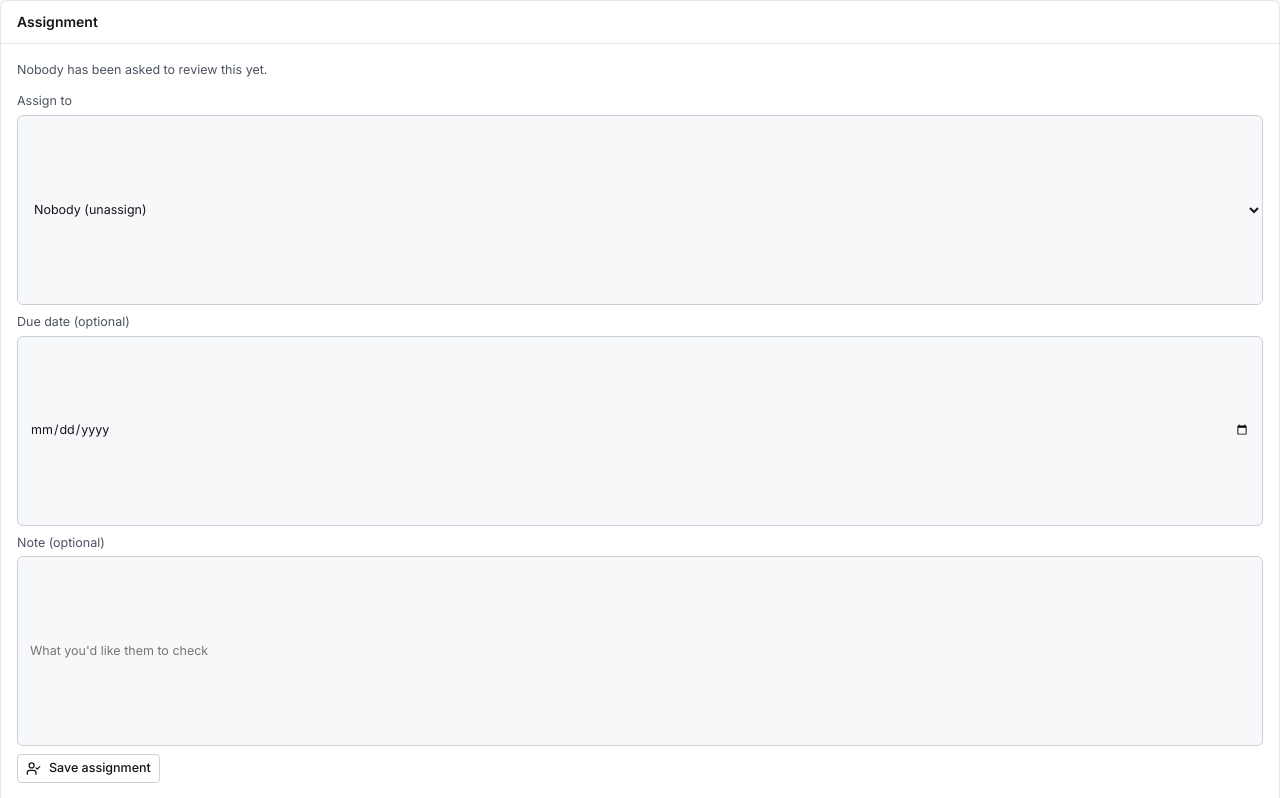
Test: AssignmentPanel › assigns a colleague
The image size is (1280, 798).
Select "colleague@example.com" in the dropdown labelled "Assign to" at [640, 210], box [17,115,1263,305]
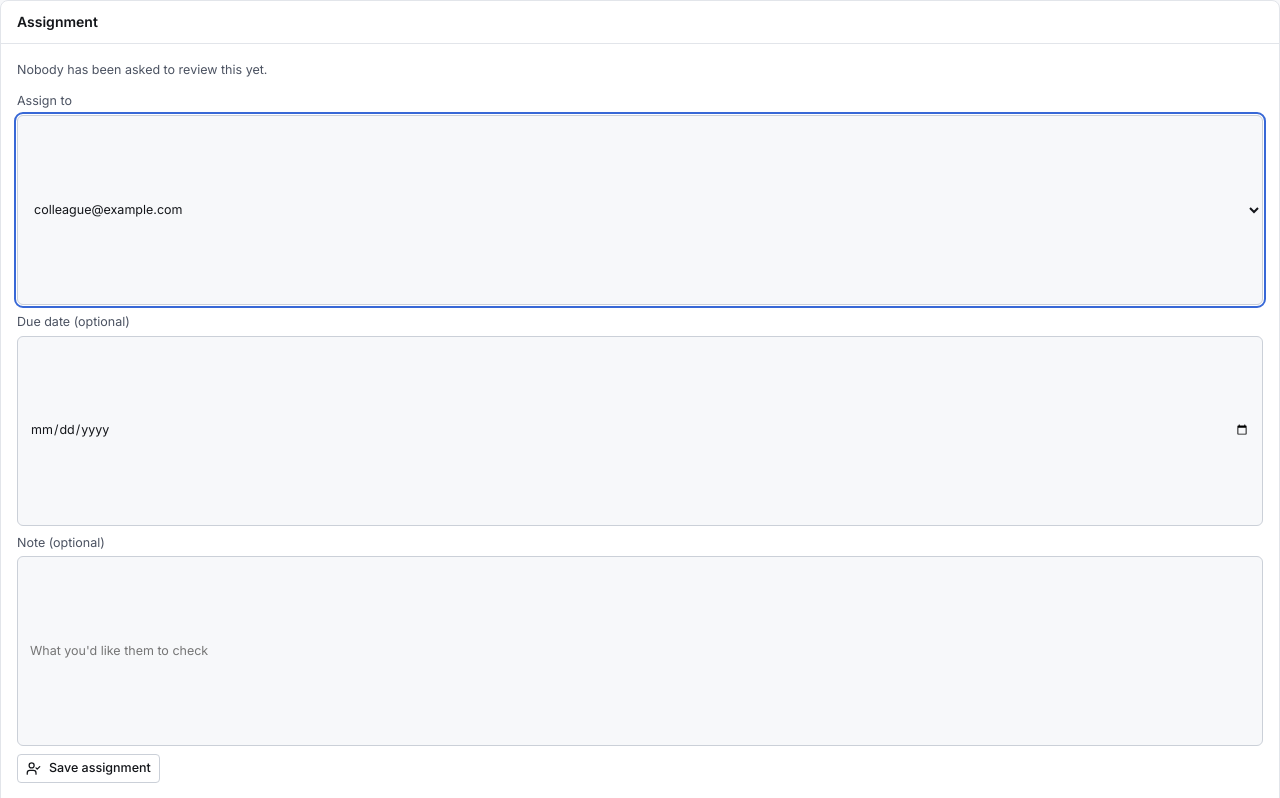
Click the button "Save assignment" at [88, 769], box [17,754,160,783]
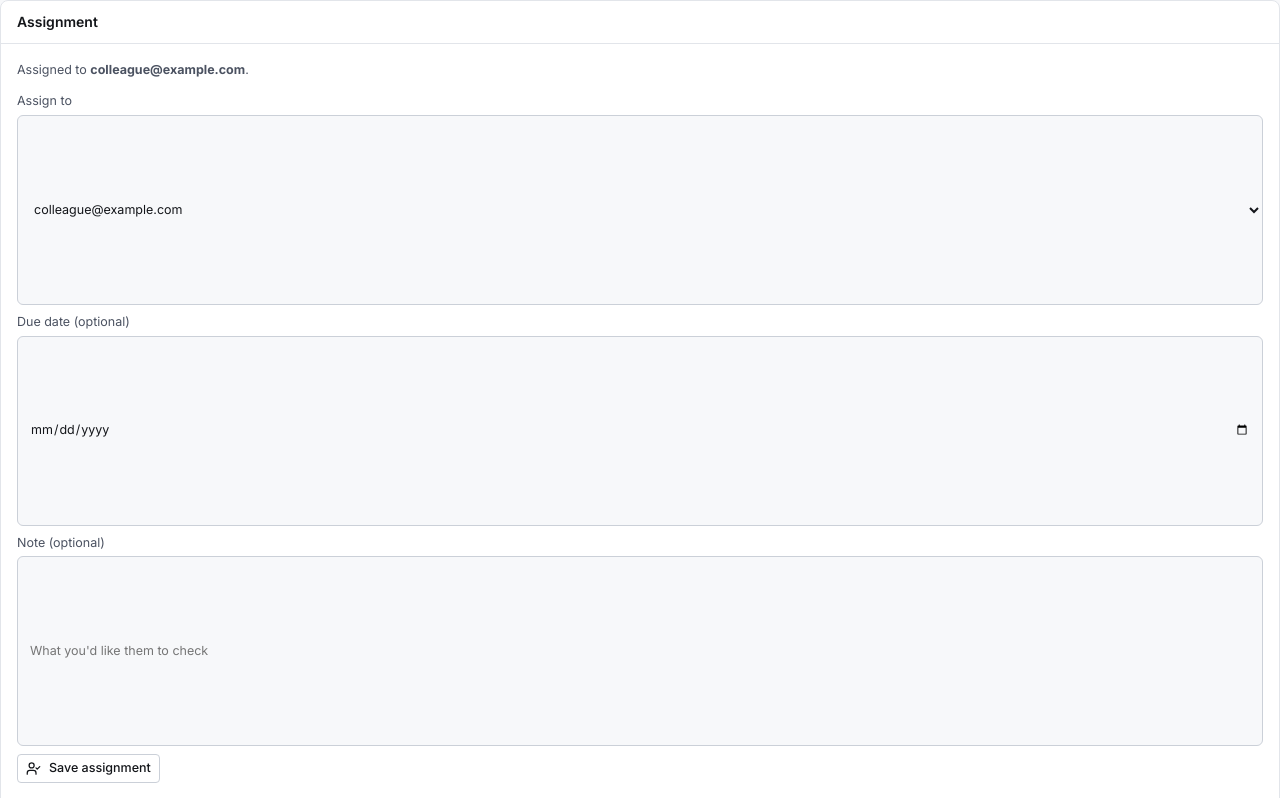
Expected: the text "Assigned to colleague@example.com." is shown, [17,62,249,76]
